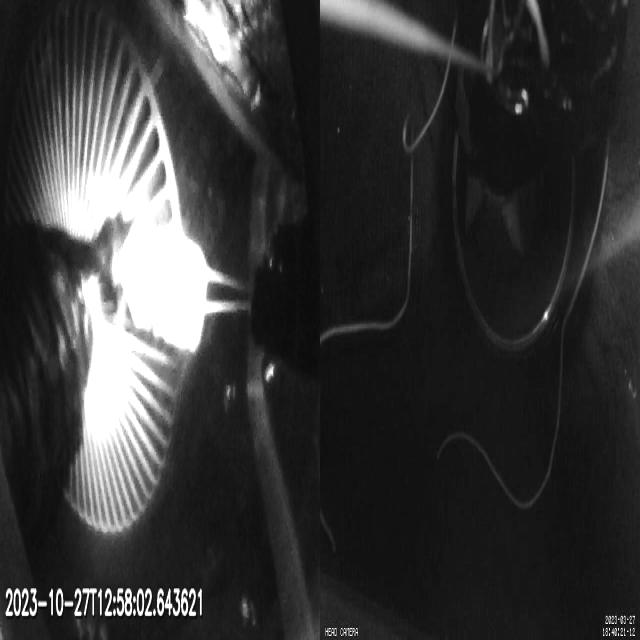head: (125, 221, 206, 355)
